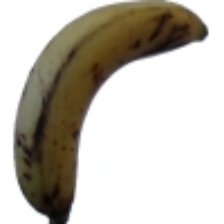banana: (23, 30, 222, 186)
